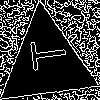T: (21, 37, 68, 73)
